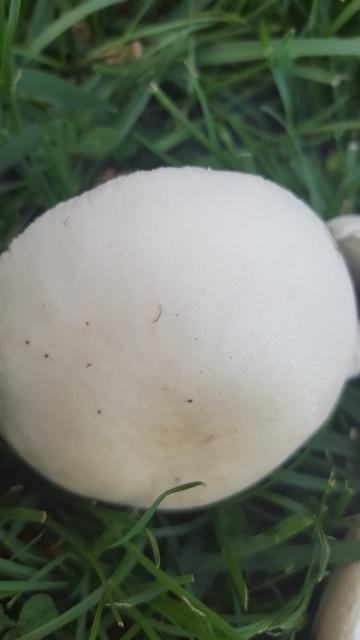poisonous_mushroom: (1, 163, 358, 512)
